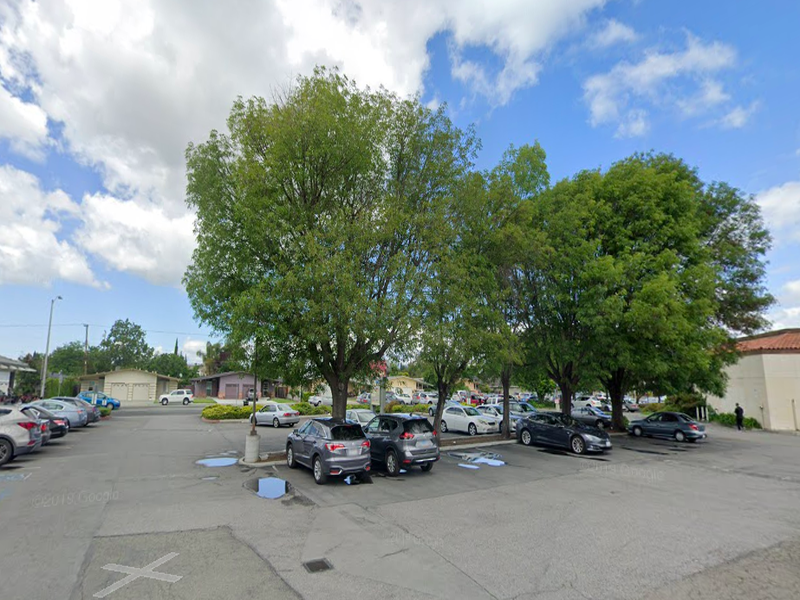tree: (181, 62, 481, 429), (595, 149, 710, 438), (418, 171, 510, 436), (524, 167, 612, 432), (486, 139, 552, 436)
